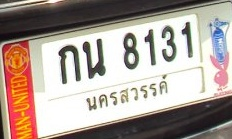txt01: (57, 44, 82, 86)
txt20: (81, 37, 106, 80)
